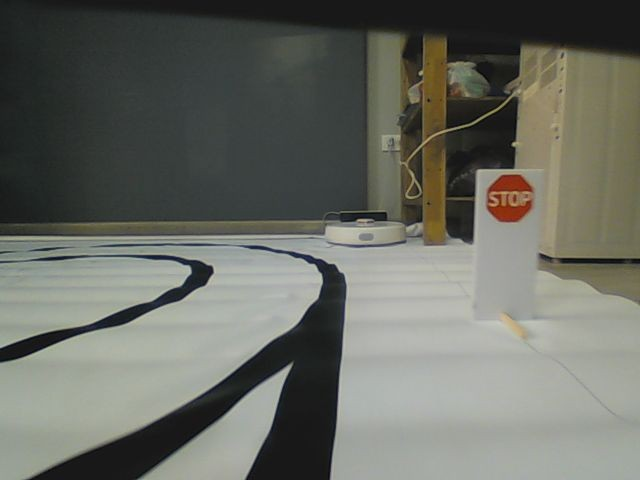Stop: (486, 172, 534, 222)
